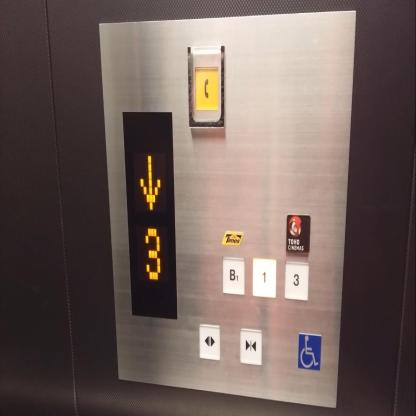1: (251, 255, 277, 300)
3: (282, 258, 310, 304)
B1: (221, 254, 246, 296)
CH: (296, 330, 323, 373)
call: (186, 43, 225, 134)
close: (238, 324, 263, 368)
led: (121, 107, 178, 321)
open: (198, 320, 222, 362)
